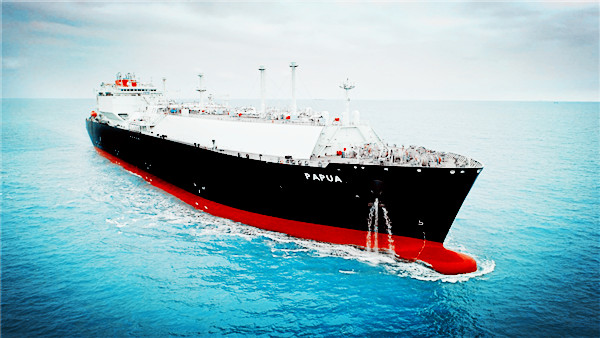Cargoship: (83, 71, 493, 280)
